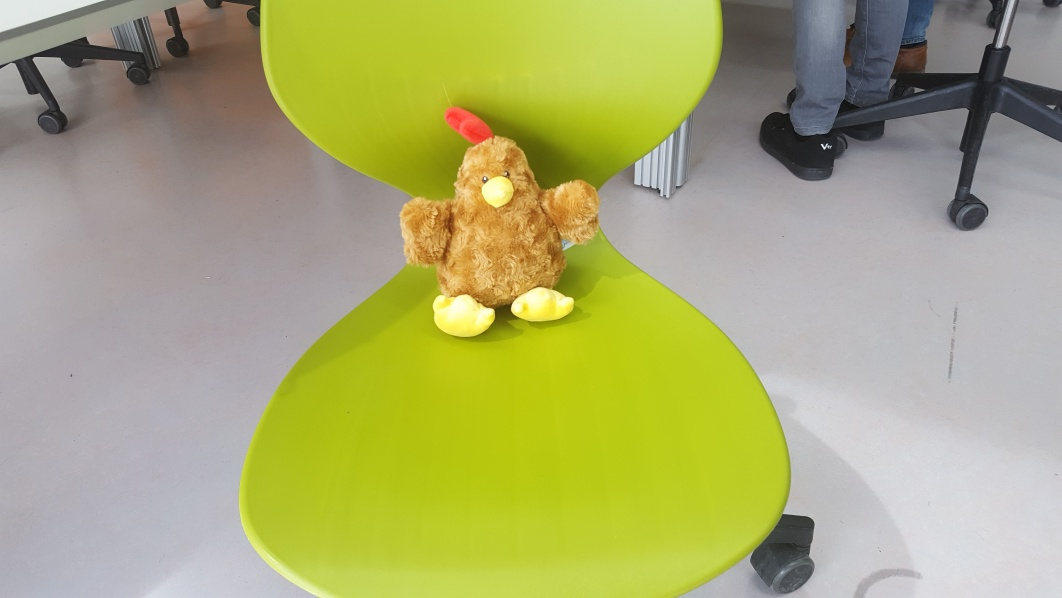chicken: (395, 104, 599, 337)
